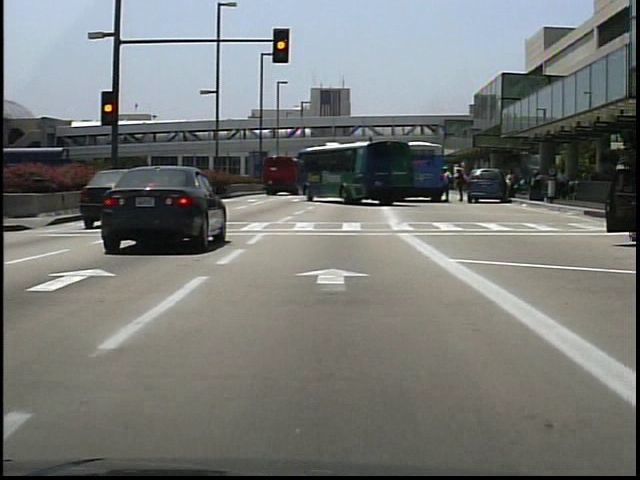person: (454, 164, 468, 204), (438, 165, 452, 202), (502, 168, 515, 202)
